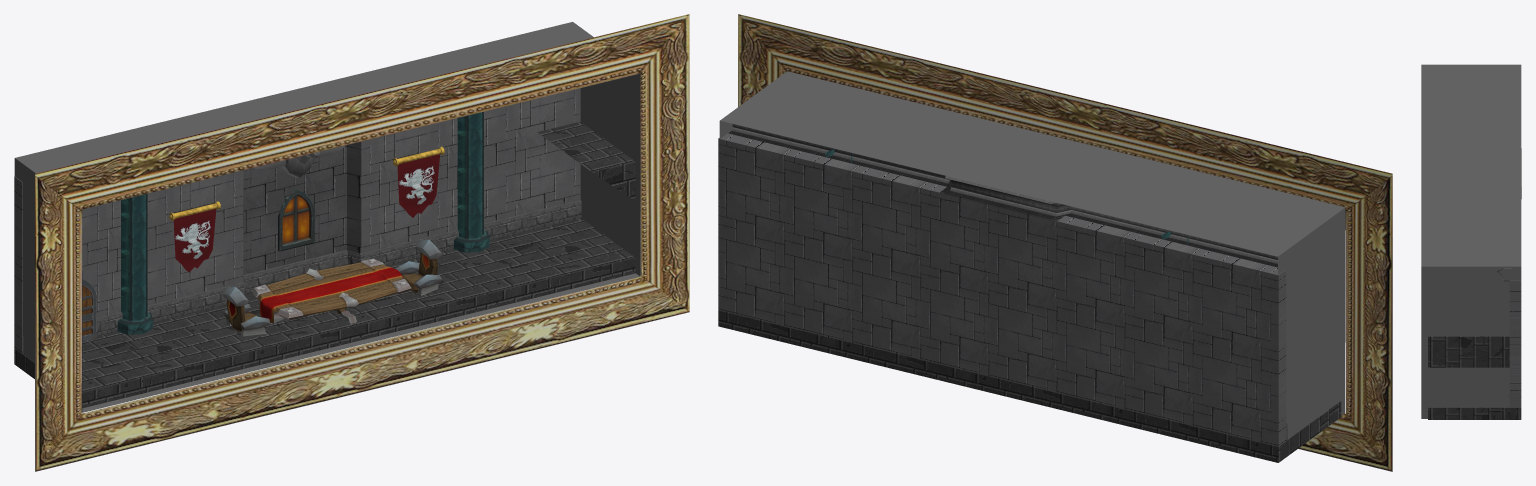
File: Fourth_Room.FBX
3 views of the same model, side by side, from view 1: azimuth 30°, elevation 25°; view 2: azimuth 150°, elevation 25°; view 3: azimuth 270°, elevation 25° (orthographic). The views are drawn at different scales.
Visible parts, largest first — view 1: Fourth_Room, polySurface275, polySurface470, Tafel, polySurface458, polySurface459, Flag, Flag001, polySurface456, Stoel_Oranje, Stoel_Rood, Deur_recht_07; view 2: Fourth_Room, polySurface275, polySurface457; view 3: polySurface275, Fourth_Room.
Part boxes in pixels (x1,y1,x2,y2): Fourth_Room: (14,14,689,471); polySurface275: (14,22,640,412); polySurface470: (22,199,581,354); Tafel: (251,258,411,323); polySurface458: (121,194,147,320); polySurface459: (457,112,483,238); Flag: (392,146,444,217); Flag001: (168,201,221,272); polySurface456: (278,189,314,251); Stoel_Oranje: (394,239,441,295); Stoel_Rood: (222,286,269,336); Deur_recht_07: (82,279,96,342); Fourth_Room: (718,14,1392,471); polySurface275: (719,71,1345,440); polySurface457: (728,124,1277,267); polySurface275: (1421,64,1521,418); Fourth_Room: (1428,280,1521,419).
Bounding box in the file's own units: 48.12 × 20.94 × 8.63.
